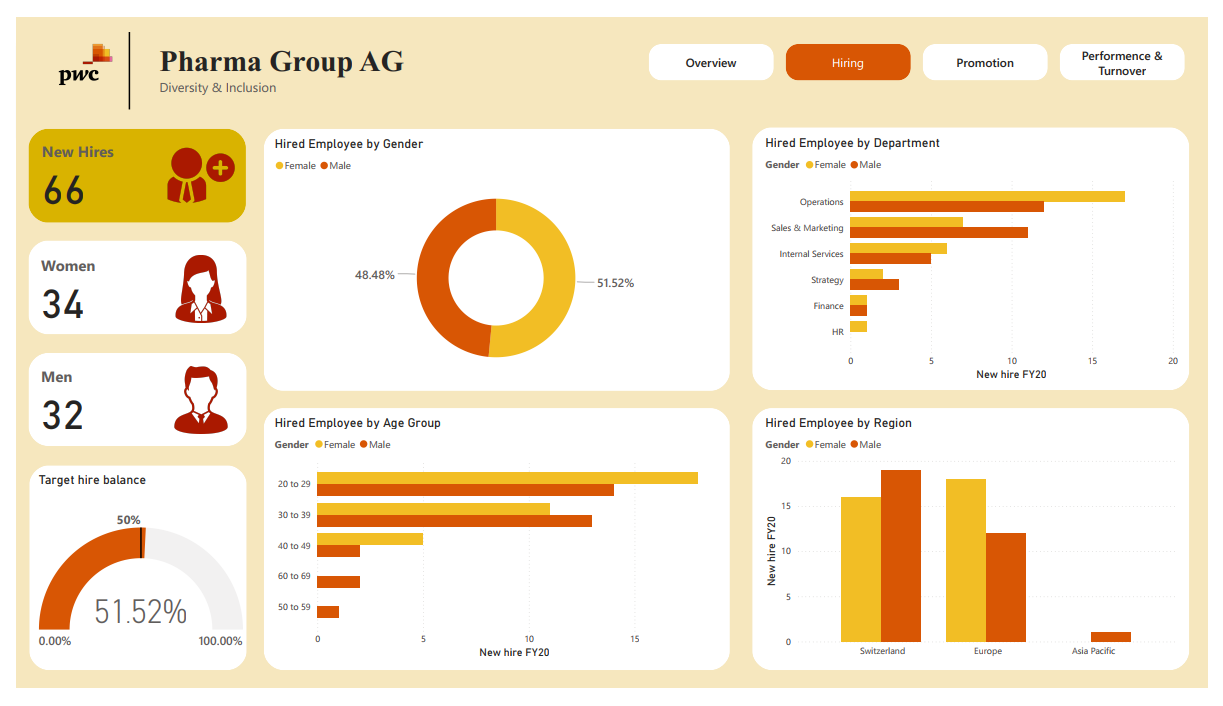

The dashboard page shown, as its layout file describes it:
{"tool":"powerbi","page":{"name":"Hiring","canvas":[1600,900],"ordinal":1},"visuals":[{"type":"shape","box":[17.7,601.3,292.4,274.7],"z":0},{"type":"shape","box":[988.6,524.3,587.1,351.4],"z":1000},{"type":"shape","box":[332.9,148.6,625.7,352.9],"z":2000},{"type":"shape","box":[332.9,524.3,625.7,351.4],"z":3000},{"type":"shape","box":[988.6,147.1,587.1,352.9],"z":4000},{"type":"image","box":[33.8,8.8,120,106.2],"z":5000},{"type":"textbox","title":"Pharma Group AG","box":[188.4,34.9,345.3,70.9],"z":6000},{"type":"shape","box":[102.3,18.6,101.2,104.7],"z":7000},{"type":"gauge","title":"Target hire balance","fields":{"TargetValue":["Avg(Pharma Group AG.Target hire balance)"],"Y":["_Measures Table.Female Hires %"]},"box":[25.9,609.6,284.2,267.6],"z":8000},{"type":"clusteredBarChart","title":"Hired Employee  by Department","fields":{"Category":["Pharma Group AG.Last Department in FY20"],"Y":["_Measures Table.New hire FY20"],"Series":["Pharma Group AG.Gender"]},"box":[1001.6,157.8,564.4,333.9],"z":9000},{"type":"shape","box":[17.4,450.2,292.4,125.3],"z":10000},{"type":"shape","box":[17.4,299.3,292.4,125.3],"z":11000},{"type":"shape","box":[17.4,148.5,292,126.5],"z":12000},{"type":"cardVisual","fields":{"Data":["Measures Table.Hires Female"]},"box":[17.4,300.5,292.4,125.3],"z":13000},{"type":"cardVisual","fields":{"Data":["Measures Table.Hires Men"]},"box":[17.4,450.2,292.4,125.3],"z":14000},{"type":"cardVisual","fields":{"Data":["Measures Table.New hire FY20"]},"box":[17.6,148,292.5,126.9],"z":15000},{"type":"clusteredBarChart","title":"Hired Employee by Age Group","fields":{"Category":["Pharma Group AG.Age group"],"Y":["_Measures Table.New hire FY20"],"Series":["Pharma Group AG.Gender"]},"box":[342.9,532.6,604.1,333.9],"z":16000},{"type":"clusteredColumnChart","title":"Hired Employee by Region","fields":{"Category":["Pharma Group AG.Region group: nationality 1"],"Series":["Pharma Group AG.Gender"],"Y":["_Measures Table.New hire FY20"]},"box":[1001.6,532.6,564.4,335],"z":17000},{"type":"donutChart","title":"Hired Employee by Gender","fields":{"Category":["Pharma Group AG.Gender"],"Y":["Measures Table.New hire FY20"]},"box":[342.9,159,604.1,332.7],"z":18000},{"type":"pageNavigator","box":[849.6,34.8,723.6,49.6],"z":19000}]}

Visuals, with their boxes in screenshot pixels (x1, y1, x2, y2), scaled from the page's 1600x900 canvas onto the 1223x706 screenshot:
shape: bbox(14, 472, 237, 687)
shape: bbox(756, 411, 1204, 687)
shape: bbox(254, 117, 733, 393)
shape: bbox(254, 411, 733, 687)
shape: bbox(756, 115, 1204, 392)
image: bbox(26, 7, 118, 90)
"Pharma Group AG" textbox: bbox(144, 27, 408, 83)
shape: bbox(78, 15, 156, 97)
"Target hire balance" gauge: bbox(20, 478, 237, 688)
"Hired Employee  by Department" clusteredBarChart: bbox(766, 124, 1197, 386)
shape: bbox(13, 353, 237, 451)
shape: bbox(13, 235, 237, 333)
shape: bbox(13, 116, 236, 216)
cardVisual - Measures Table.Hires Female: bbox(13, 236, 237, 334)
cardVisual - Measures Table.Hires Men: bbox(13, 353, 237, 451)
cardVisual - Measures Table.New hire FY20: bbox(13, 116, 237, 216)
"Hired Employee by Age Group" clusteredBarChart: bbox(262, 418, 724, 680)
"Hired Employee by Region" clusteredColumnChart: bbox(766, 418, 1197, 681)
"Hired Employee by Gender" donutChart: bbox(262, 125, 724, 386)
pageNavigator: bbox(649, 27, 1203, 66)
